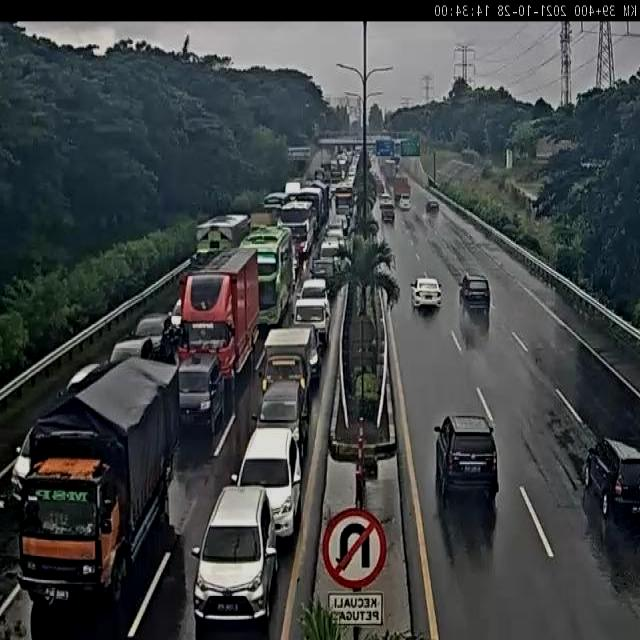Car: (193, 486, 278, 631), (229, 433, 305, 533), (432, 420, 505, 508), (578, 439, 640, 520), (178, 358, 226, 433), (255, 384, 311, 434), (455, 275, 499, 315), (412, 279, 445, 312)
Truck: (14, 350, 180, 608), (183, 248, 257, 384), (240, 228, 293, 327), (257, 327, 312, 398)
